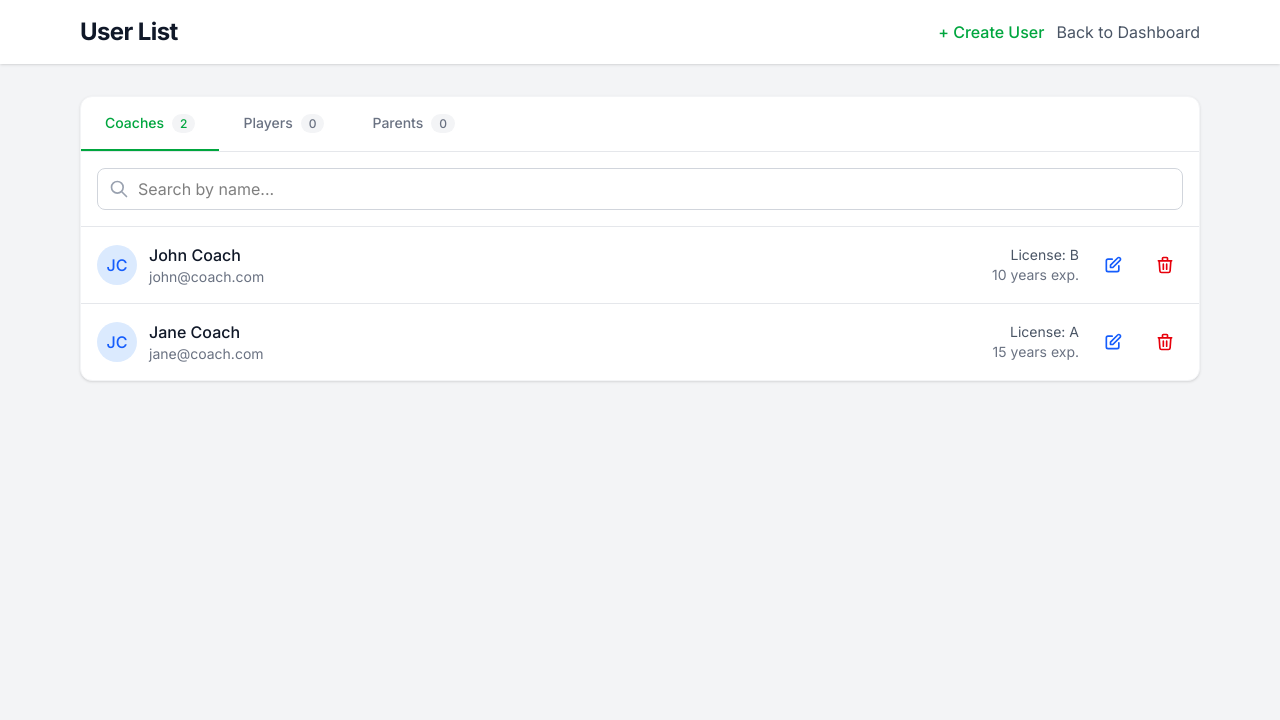
it: UserListPage › Delete functionality › should open delete dialog when delete button clicked
This screenshot has width=1280, height=720.
Check: the text "John Coach" is shown, box [149,245,241,265]
Click the button titled "Delete coach" in the row of "10" at [1165, 265], box [1147,247,1183,283]
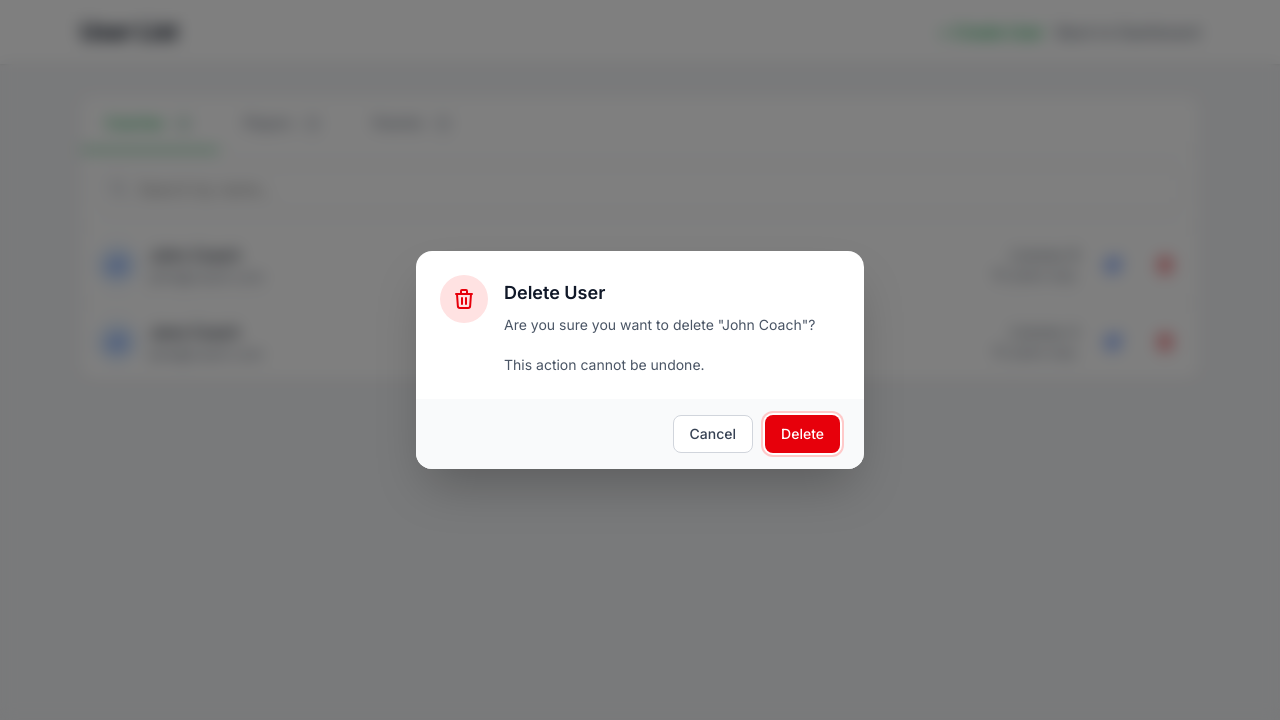
Check: the heading "Delete User" is shown, box [504,282,605,303]
Check: the text "Are you sure you want to delete \"John Coach\"" is shown, box [504,316,815,373]
